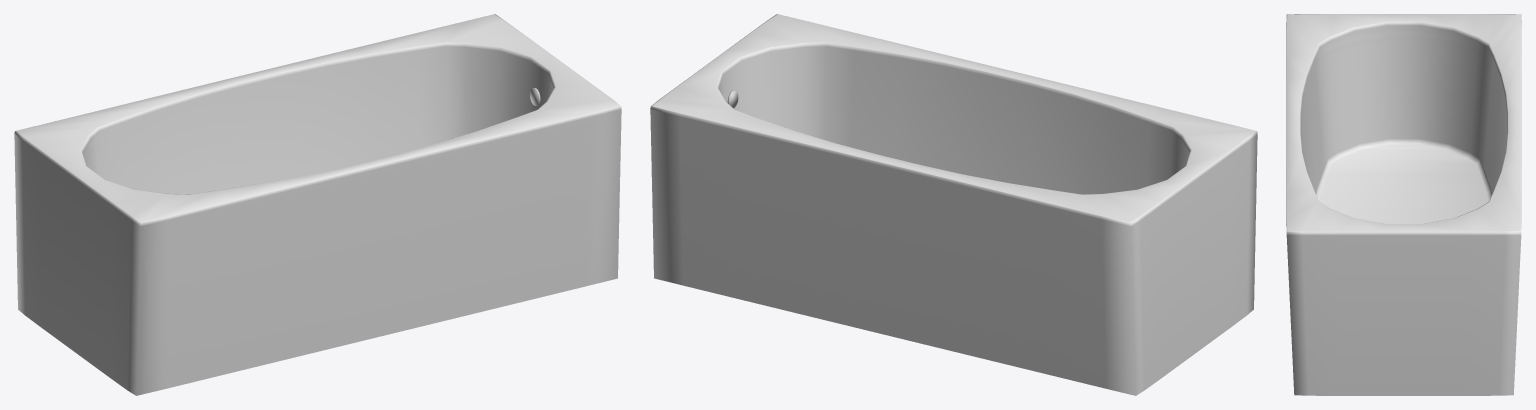
The model's file is BathTub03.glb.
3 renders of one model, left to right at view 1: azimuth 30°, elevation 25°; view 2: azimuth 150°, elevation 25°; view 3: azimuth 270°, elevation 25°, orthographic. The views are drawn at different scales.
Visible parts, largest first — view 1: BathTub03_model; view 2: BathTub03_model; view 3: BathTub03_model.
Part boxes in pixels (box(x1,y1,x2,y2)): BathTub03_model: box(14, 14, 621, 395); BathTub03_model: box(650, 14, 1257, 395); BathTub03_model: box(1286, 14, 1521, 395).
Bounding box in the file's own units: 2.98 × 1.04 × 1.35.
1 material, 1 textured.
